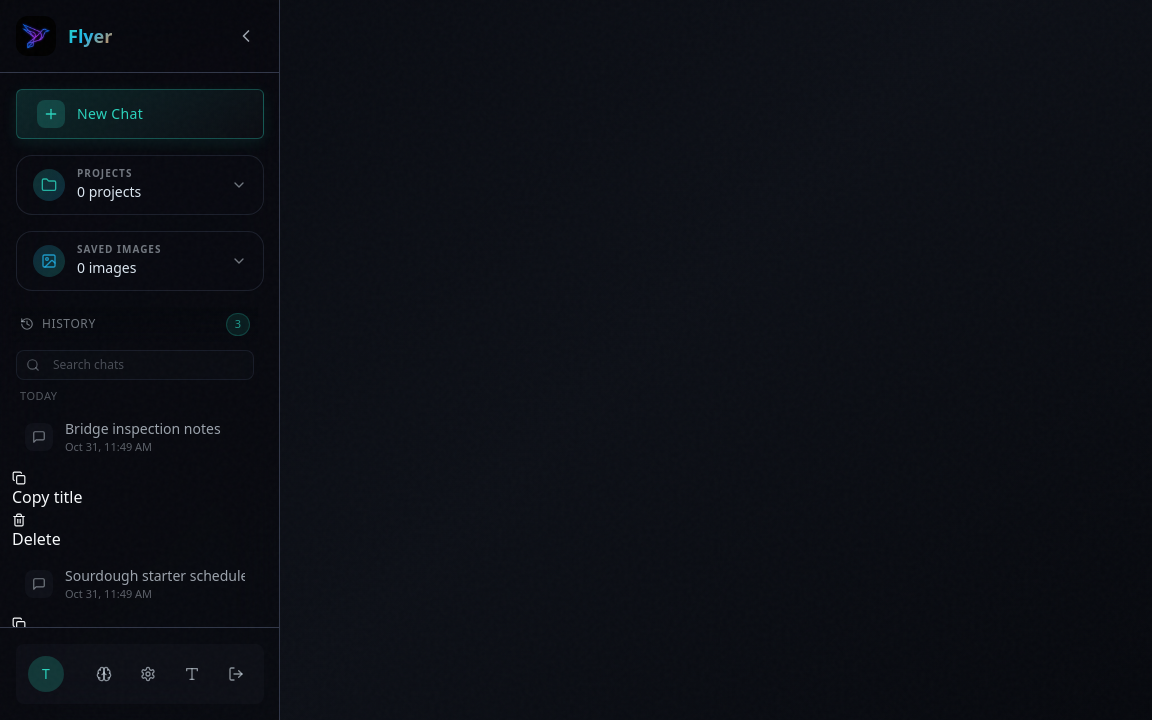
Test: history filtering › narrows the list to matching titles and hides the rest
The image size is (1152, 720).
Type "sourdough" into the search field named "search conversations" at (135, 364), box [16, 350, 254, 380]
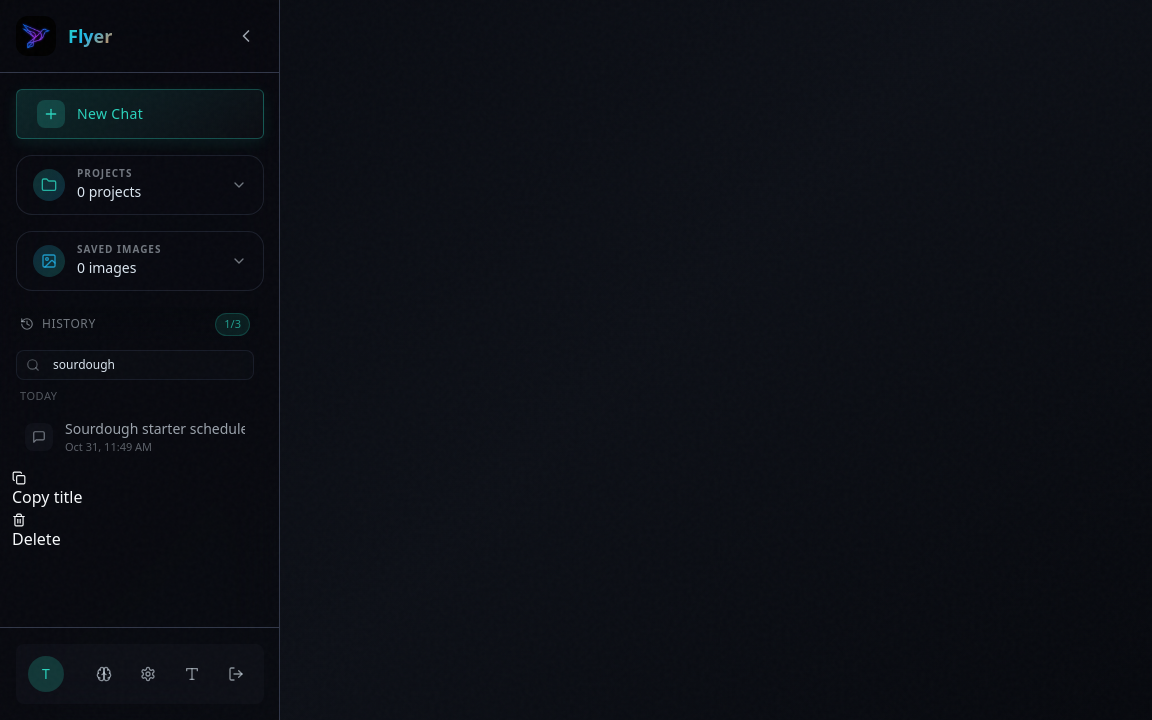
Expected: the text "Sourdough starter schedule" is shown, [65, 419, 245, 439]
Expected: the button "Bridge inspection notes" is gone
